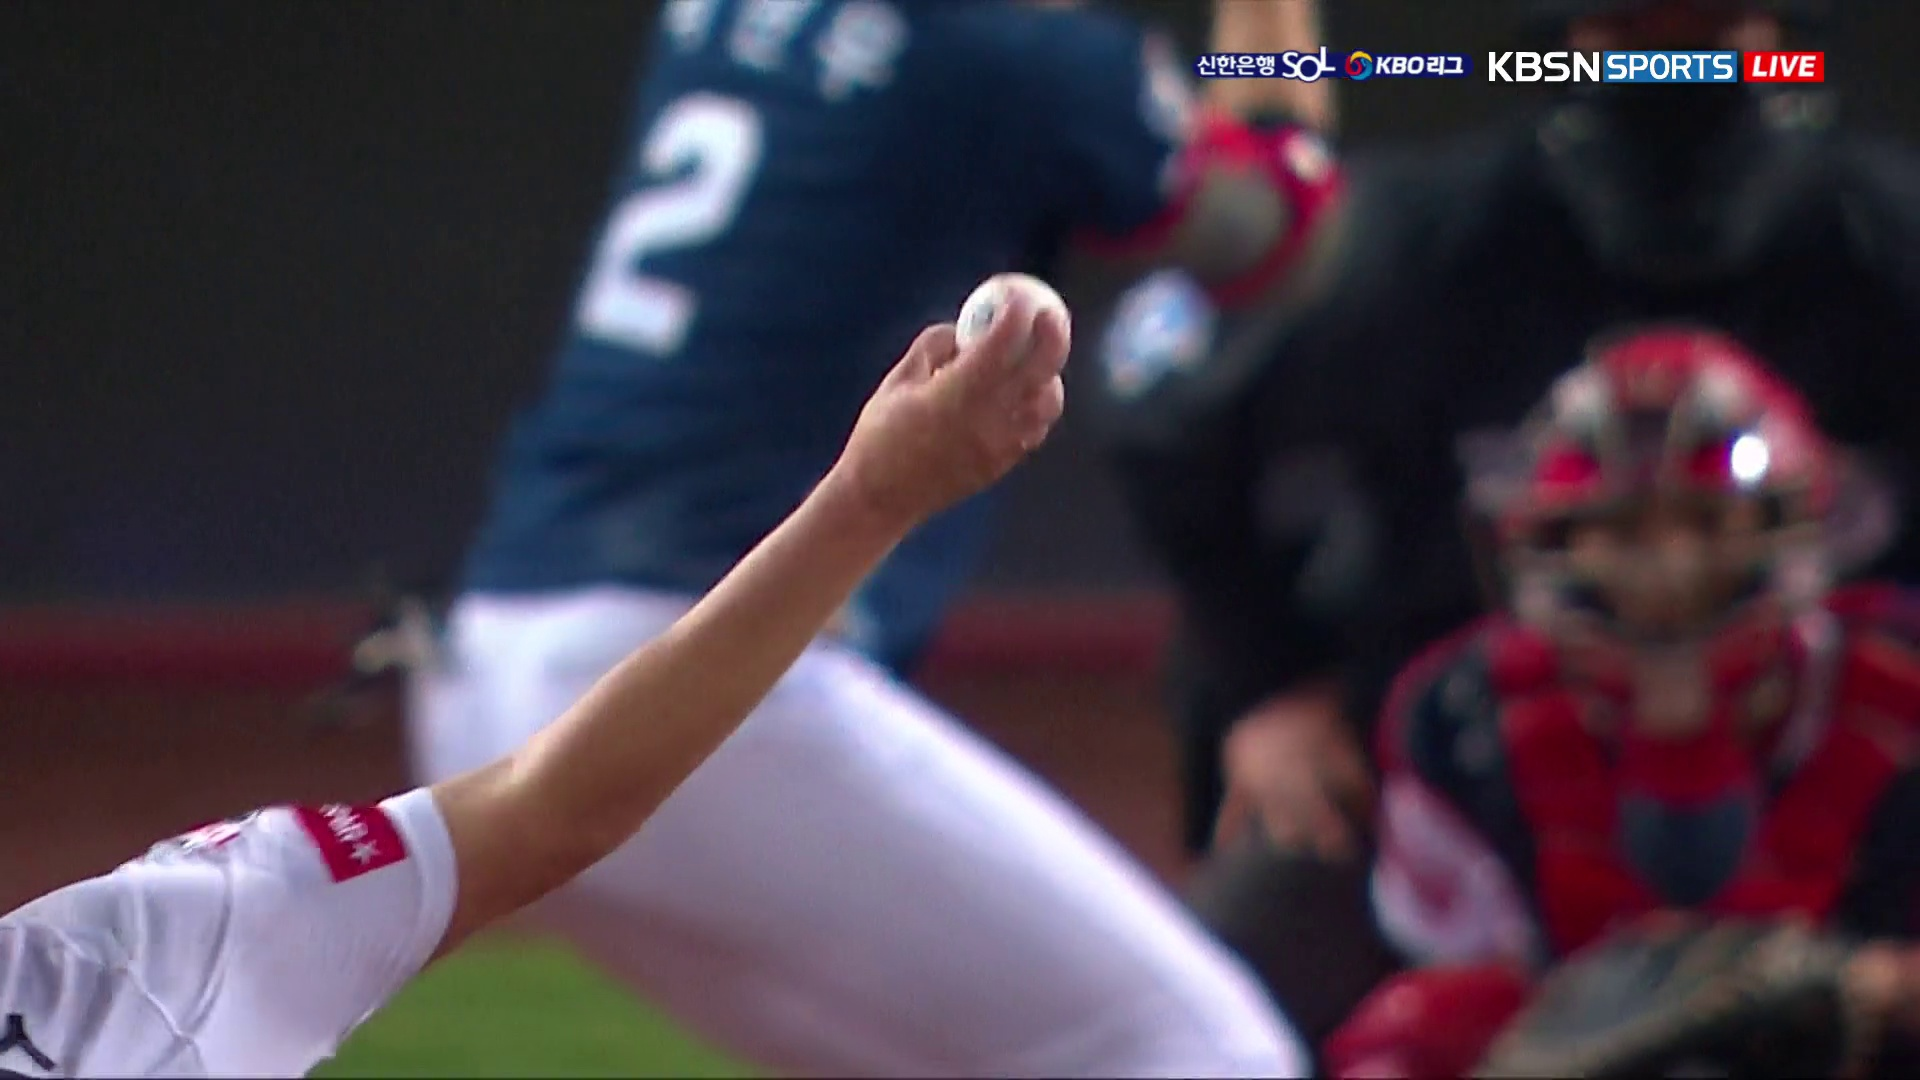zoomin_hand: (487, 262, 1092, 903)
